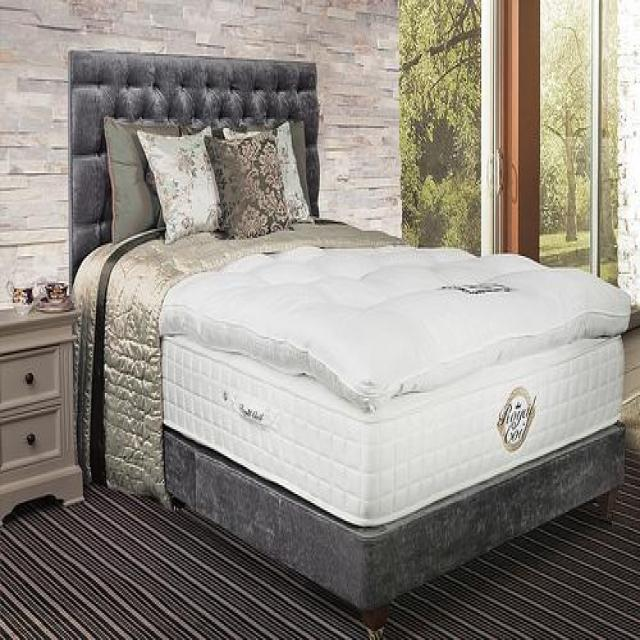bed: (66, 46, 631, 640)
